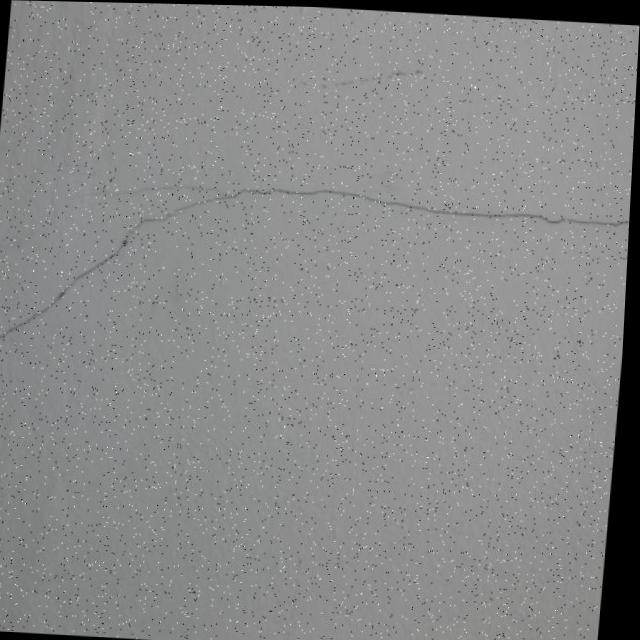Crack: (0, 161, 633, 392)
